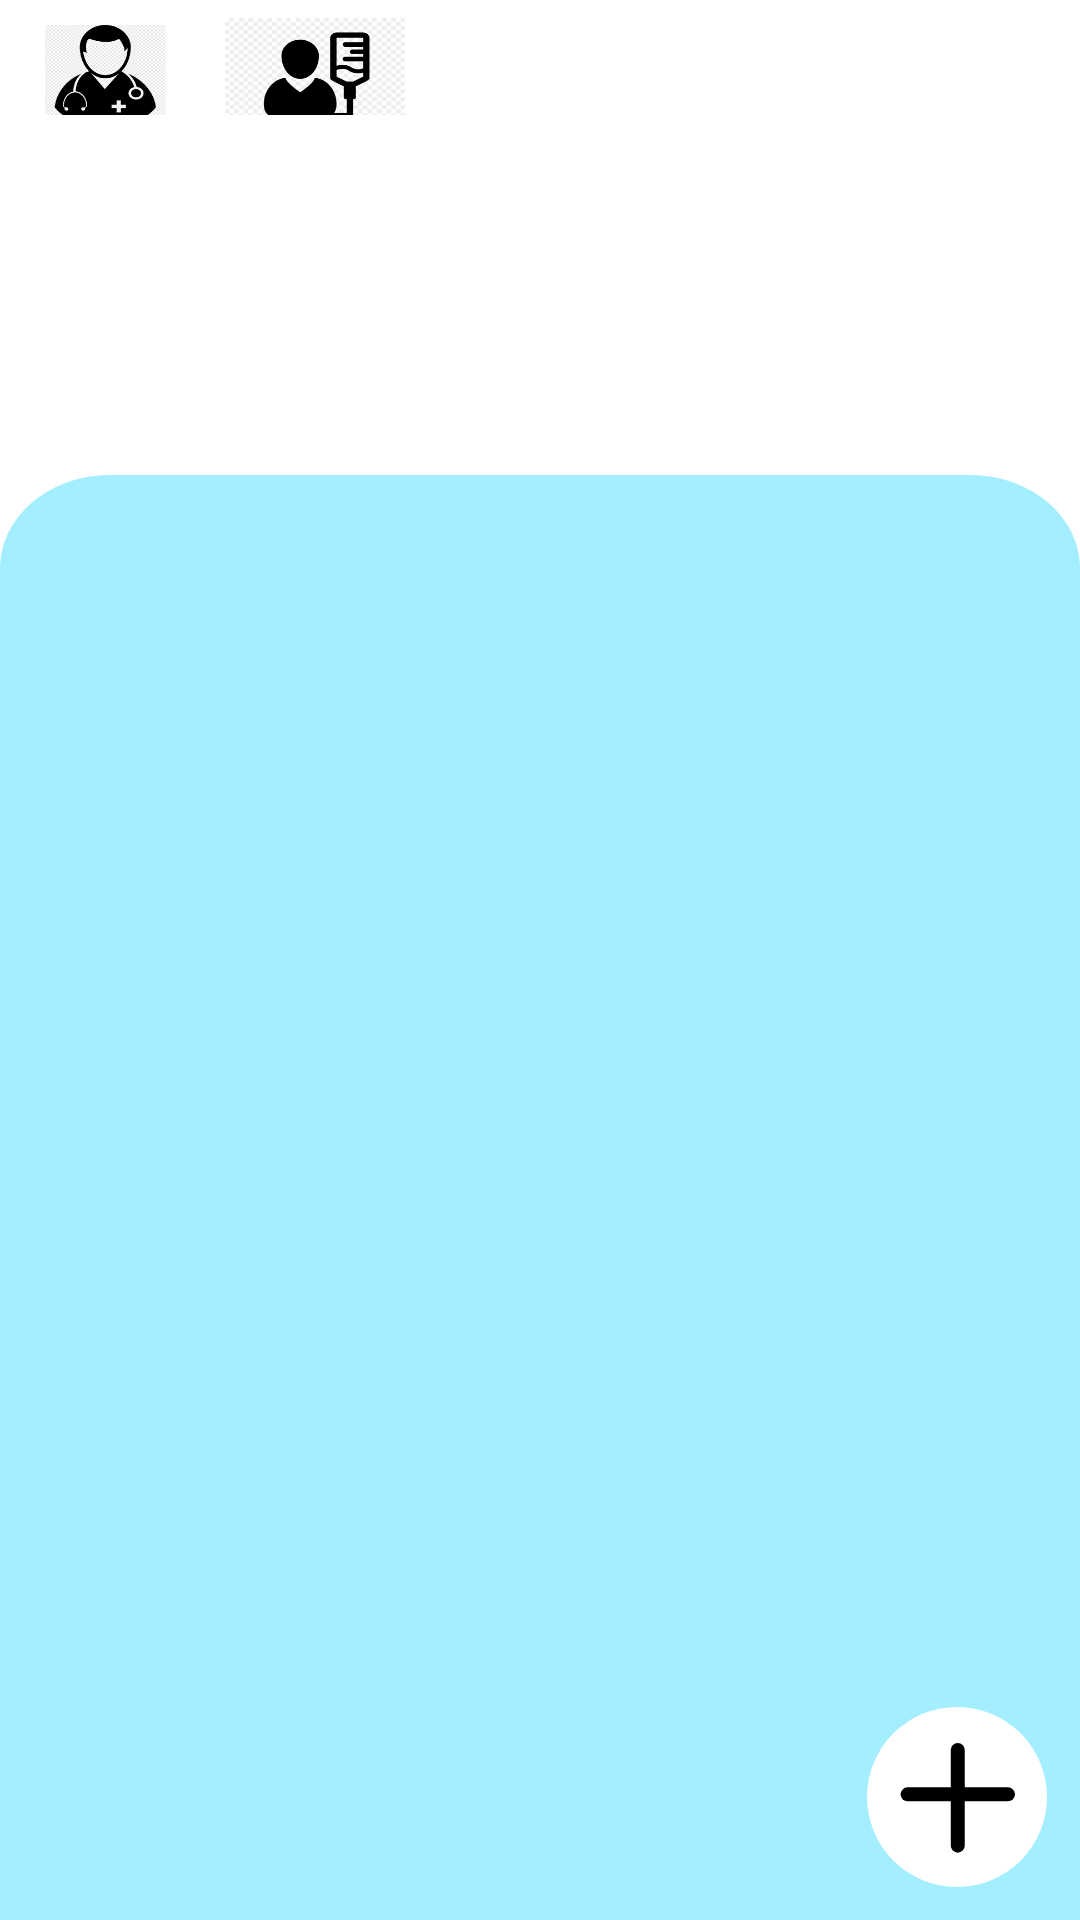

Icons on this 1080w x 1920h Android screen, each with the point to tap as (x,y):
add day: (957,1797)
